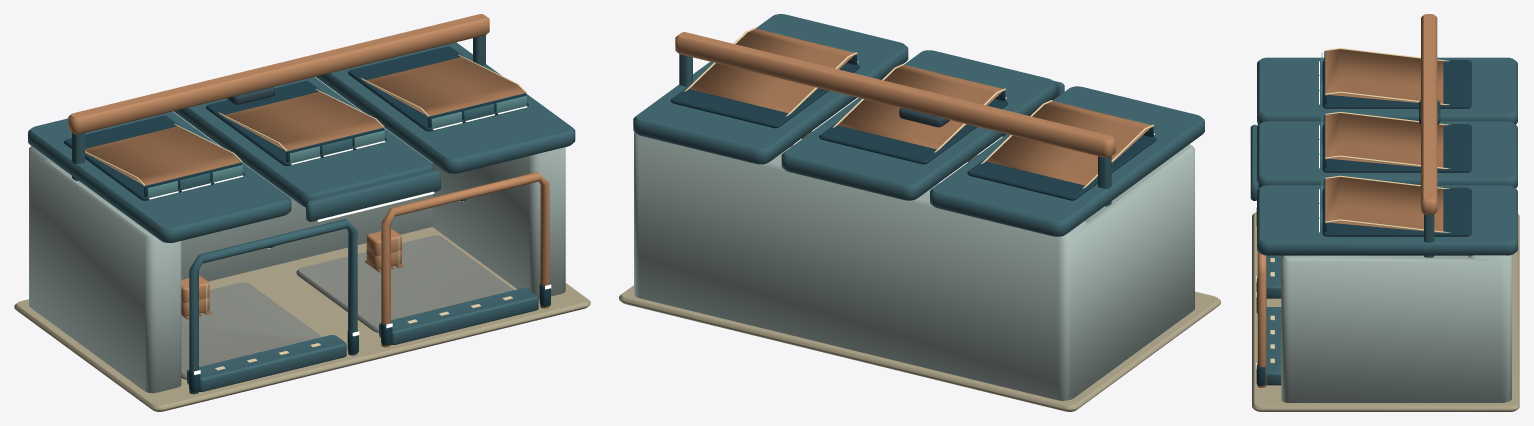
The model's file is harbor_transfer.glb.
3 renders of one model, left to right at view 1: azimuth 30°, elevation 25°; view 2: azimuth 150°, elevation 25°; view 3: azimuth 270°, elevation 25°, orthographic. The views are drawn at different scales.
Visible parts, largest first — view 1: HarborTransfer; view 2: HarborTransfer; view 3: HarborTransfer.
Boxes of the visible parts, box(x1,y1,x2,y2) form: HarborTransfer: box(14, 14, 590, 411); HarborTransfer: box(619, 14, 1220, 411); HarborTransfer: box(1249, 14, 1519, 411).
Size of the model in its own units: 12.08 by 5.92 by 6.99.
